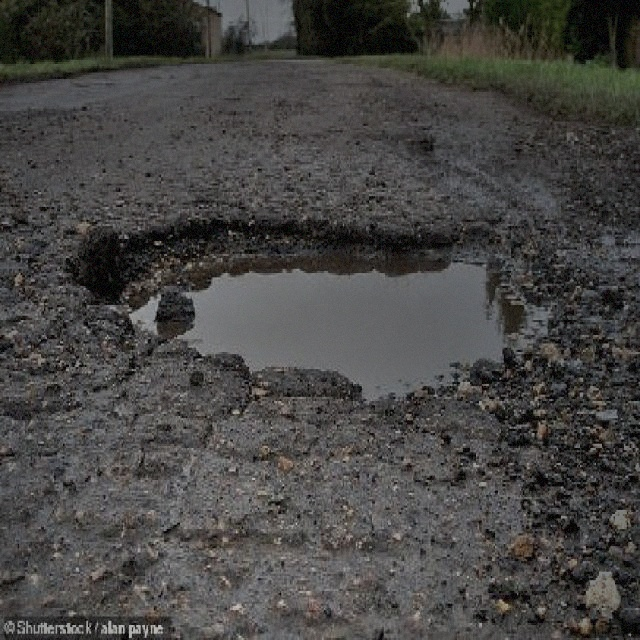pothole: (67, 209, 578, 410)
